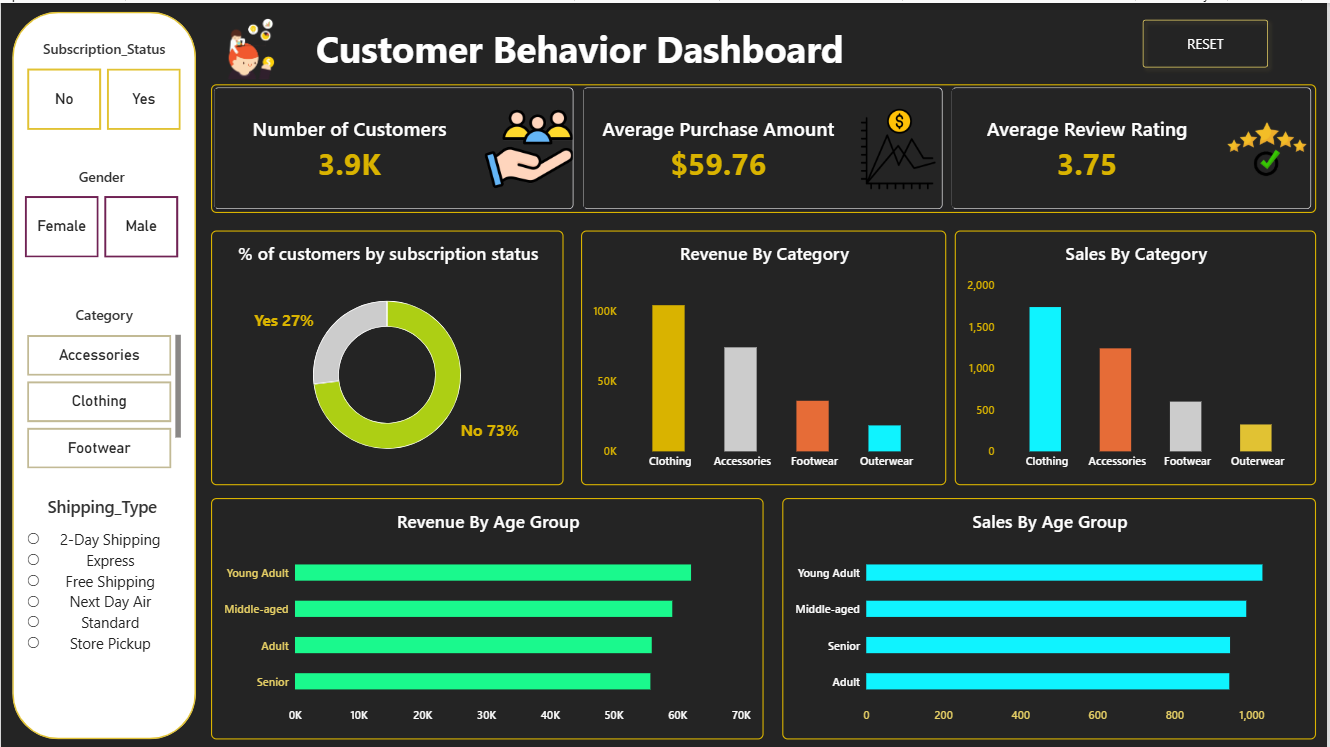

This screenshot's page, from the dashboard's own definition file:
{"tool":"powerbi","page":{"name":"Dashboard","canvas":[1920,1080],"ordinal":0},"visuals":[{"type":"textbox","box":[456,29,825.2,74.2],"z":0},{"type":"cardVisual","fields":{"Data":["public customer.Number of Customers","public customer.Average Purchase Amount","public customer.Average Review Rating"]},"box":[304,117.6,1599.7,186.4],"z":1},{"type":"donutChart","title":"% of customers by subscription status","fields":{"Category":["public customer.subscription_status"],"Y":["CountNonNull(public customer.customer_id)"]},"box":[304,329.4,510.3,369.2],"z":3},{"type":"clusteredColumnChart","title":"Revenue By Category","fields":{"Category":["public customer.category"],"Y":["Sum(public customer.purchase_amount)"]},"box":[839.7,329.4,528.4,369.2],"z":4},{"type":"clusteredColumnChart","title":"Sales By Category","fields":{"Category":["public customer.category"],"Y":["CountNonNull(public customer.customer_id)"]},"box":[1380.8,329.4,523,369.2],"z":5},{"type":"shape","box":[16.3,12.7,266,1053.2],"z":6},{"type":"advancedSlicerVisual","fields":{"Values":["public customer.subscription_status"]},"box":[38,52.5,222.6,132.1],"z":7},{"type":"advancedSlicerVisual","fields":{"Values":["public customer.gender"]},"box":[34.4,237.1,222.6,132.1],"z":8},{"type":"advancedSlicerVisual","title":"Category","fields":{"Values":["public customer.category"]},"box":[38,437.9,222.6,237.1],"z":9},{"type":"listSlicer","title":"Shipping_Type","fields":{"Values":["public customer.shipping_type"]},"box":[21.7,698.5,249.7,311.3],"z":10},{"type":"clusteredBarChart","title":"Revenue  By Age Group ","fields":{"Category":["public customer.age_group"],"Y":["Sum(public customer.purchase_amount)"]},"box":[304,716.6,799.9,349.3],"z":11},{"type":"clusteredBarChart","title":"Sales By Age Group ","fields":{"Category":["public customer.age_group"],"Y":["CountNonNull(public customer.customer_id)"]},"box":[1131,716.6,772.7,349.3],"z":12},{"type":"image","box":[282.3,21.7,152,88.7],"z":13},{"type":"actionButton","box":[1643.2,14.5,200.9,88.7],"z":14}]}

Visuals, with their boxes in screenshot pixels (x1, y1, x2, y2), scaled from the page's 1920x1080 canvas onto the 1330x747 screenshot:
textbox: [316, 20, 887, 71]
cardVisual - public customer.Number of Customers x public customer.Average Purchase Amount: [211, 81, 1319, 210]
"% of customers by subscription status" donutChart: [211, 228, 564, 483]
"Revenue By Category" clusteredColumnChart: [582, 228, 948, 483]
"Sales By Category" clusteredColumnChart: [956, 228, 1319, 483]
shape: [11, 9, 196, 737]
advancedSlicerVisual - public customer.subscription_status: [26, 36, 181, 128]
advancedSlicerVisual - public customer.gender: [24, 164, 178, 255]
"Category" advancedSlicerVisual: [26, 303, 181, 467]
"Shipping_Type" listSlicer: [15, 483, 188, 698]
"Revenue  By Age Group " clusteredBarChart: [211, 496, 765, 737]
"Sales By Age Group " clusteredBarChart: [783, 496, 1319, 737]
image: [196, 15, 301, 76]
actionButton: [1138, 10, 1277, 71]
